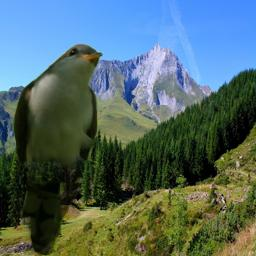Cuckoo: (12, 43, 104, 255)
